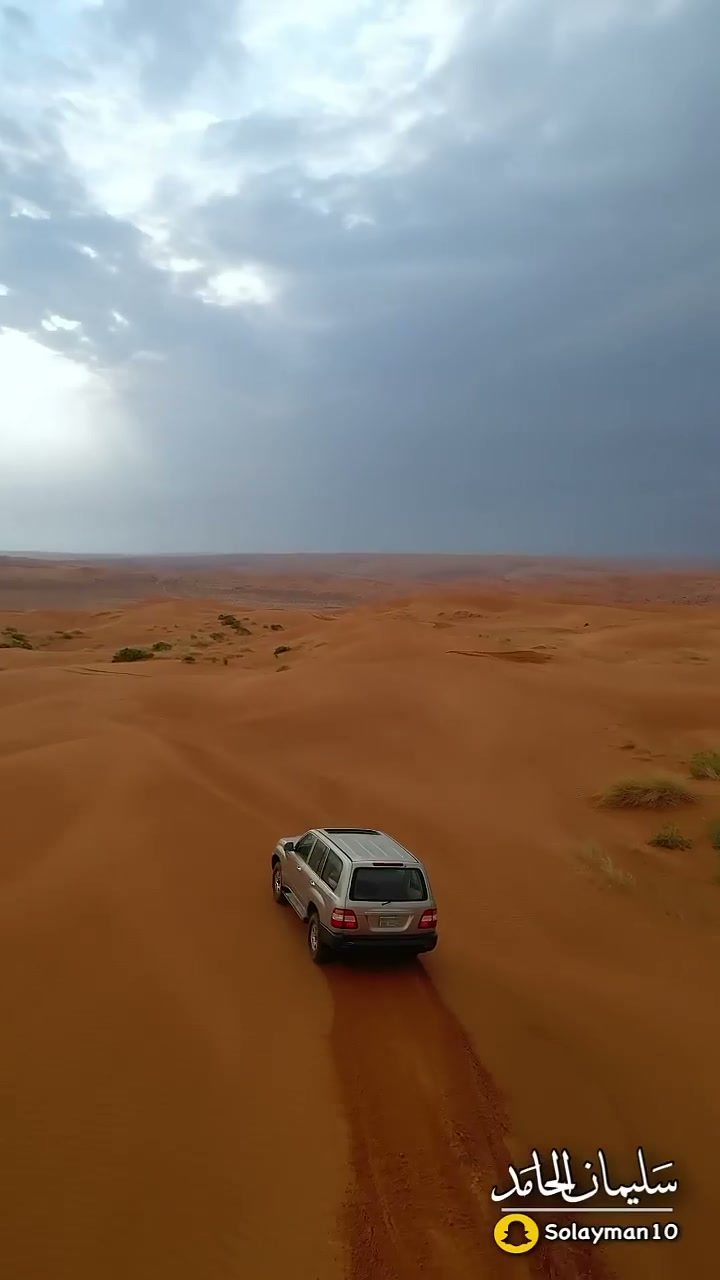vehicle_track: (328, 964, 609, 1279)
